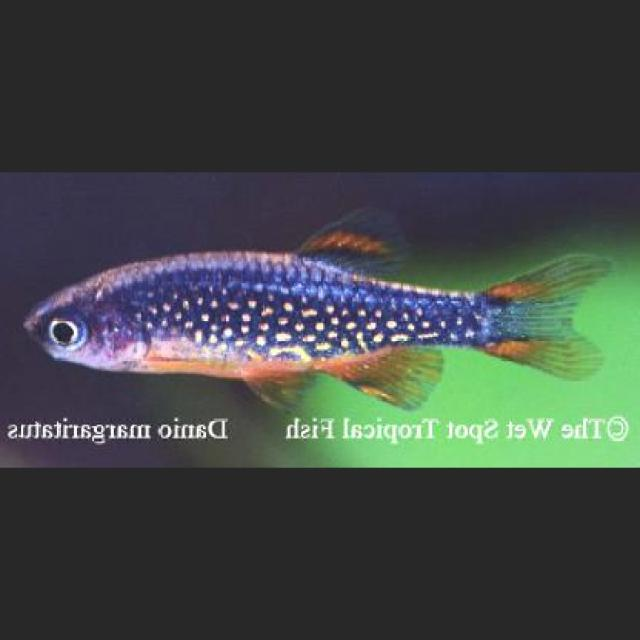ZebraFish: (32, 204, 618, 410)
